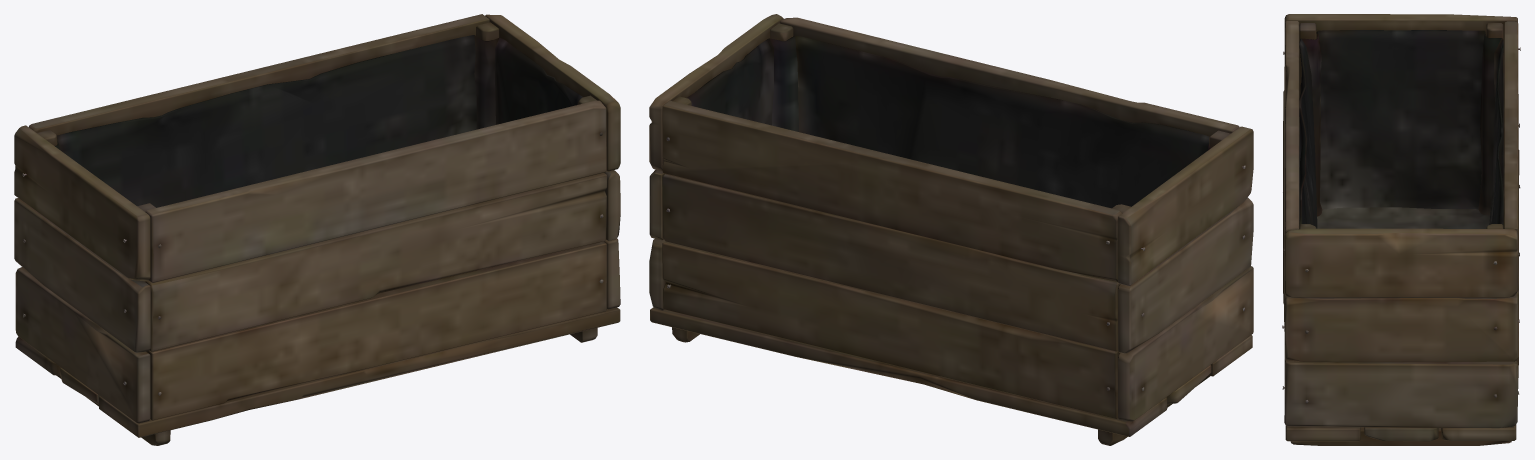
The model's file is planter_box_01.glb.
3 renders of one model, left to right at view 1: azimuth 30°, elevation 25°; view 2: azimuth 150°, elevation 25°; view 3: azimuth 270°, elevation 25°, orthographic. The views are drawn at different scales.
Parts seen in each view (by area): view 1: planter_box_01; view 2: planter_box_01; view 3: planter_box_01.
Part boxes in pixels (x1,y1,x2,y2): planter_box_01: [14, 14, 620, 445]; planter_box_01: [649, 14, 1253, 445]; planter_box_01: [1282, 14, 1520, 445].
Size of the model in its own units: 0.9126 by 0.4249 by 0.4137.
Materials: 1 (1 with a texture image).
